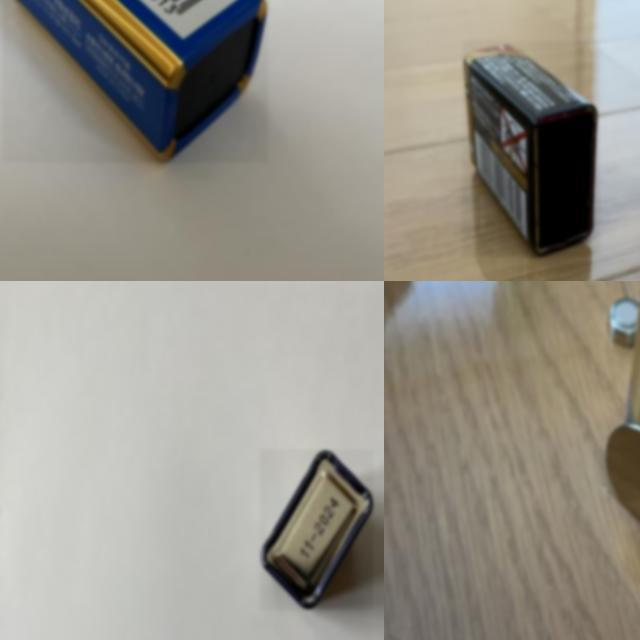9V: (3, 0, 268, 163), (462, 41, 600, 256), (260, 449, 373, 610)
